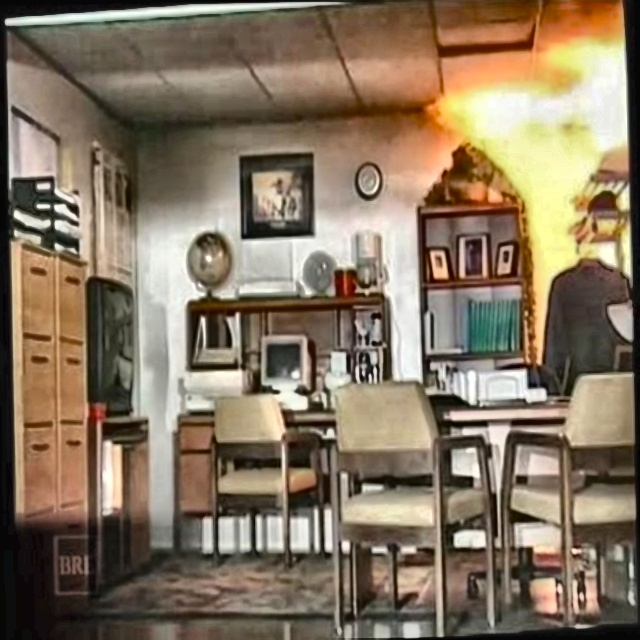fire: (452, 64, 636, 145)
